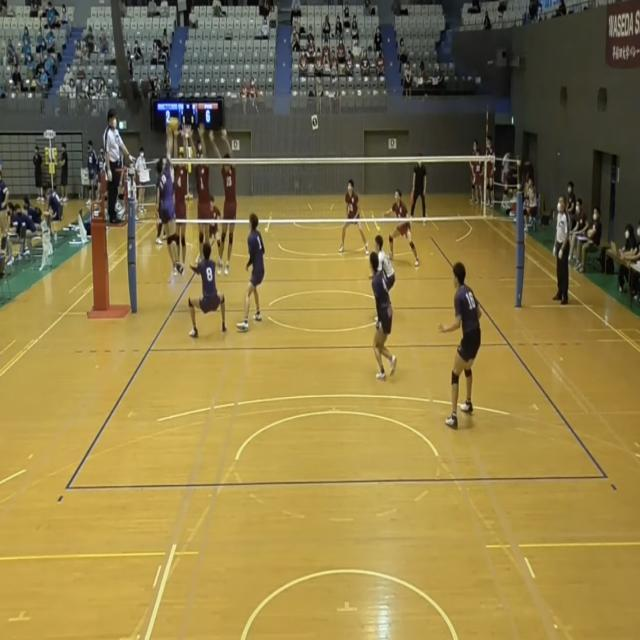spike: (154, 113, 184, 285)
